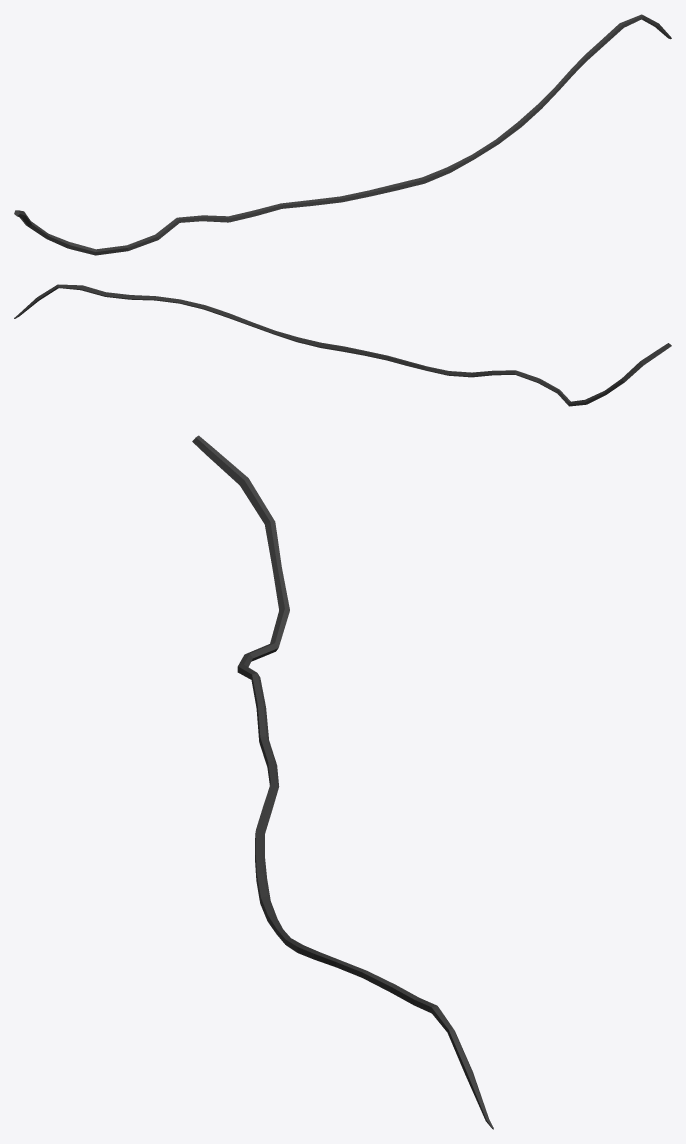
Rendered from Ureter_R_LP.glb.
3 renders of one model, top to bottom at view 1: azimuth 30°, elevation 25°; view 2: azimuth 150°, elevation 25°; view 3: azimuth 270°, elevation 25°, orthographic. The views are drawn at different scales.
Visible parts, largest first — view 1: Ureter_R_LP; view 2: Ureter_R_LP; view 3: Ureter_R_LP.
Boxes of the visible parts, x1=… form: Ureter_R_LP: x1=14, y1=14, x2=671, y2=255; Ureter_R_LP: x1=14, y1=284, x2=671, y2=406; Ureter_R_LP: x1=192, y1=435, x2=493, y2=1129.
Size of the model in its own units: 4.18 by 0.4988 by 0.935.
1 material, 1 textured.
